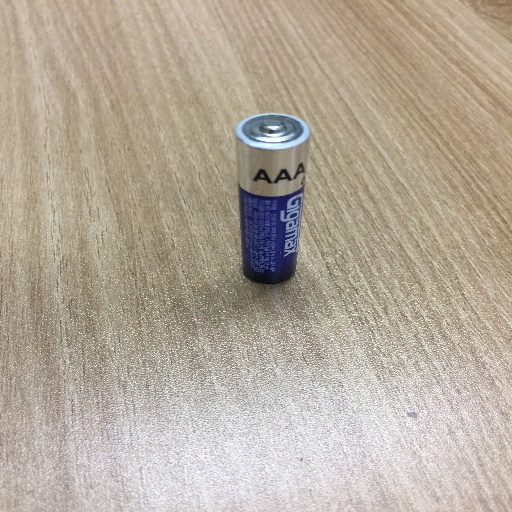Battery_0: (230, 99, 314, 303)
